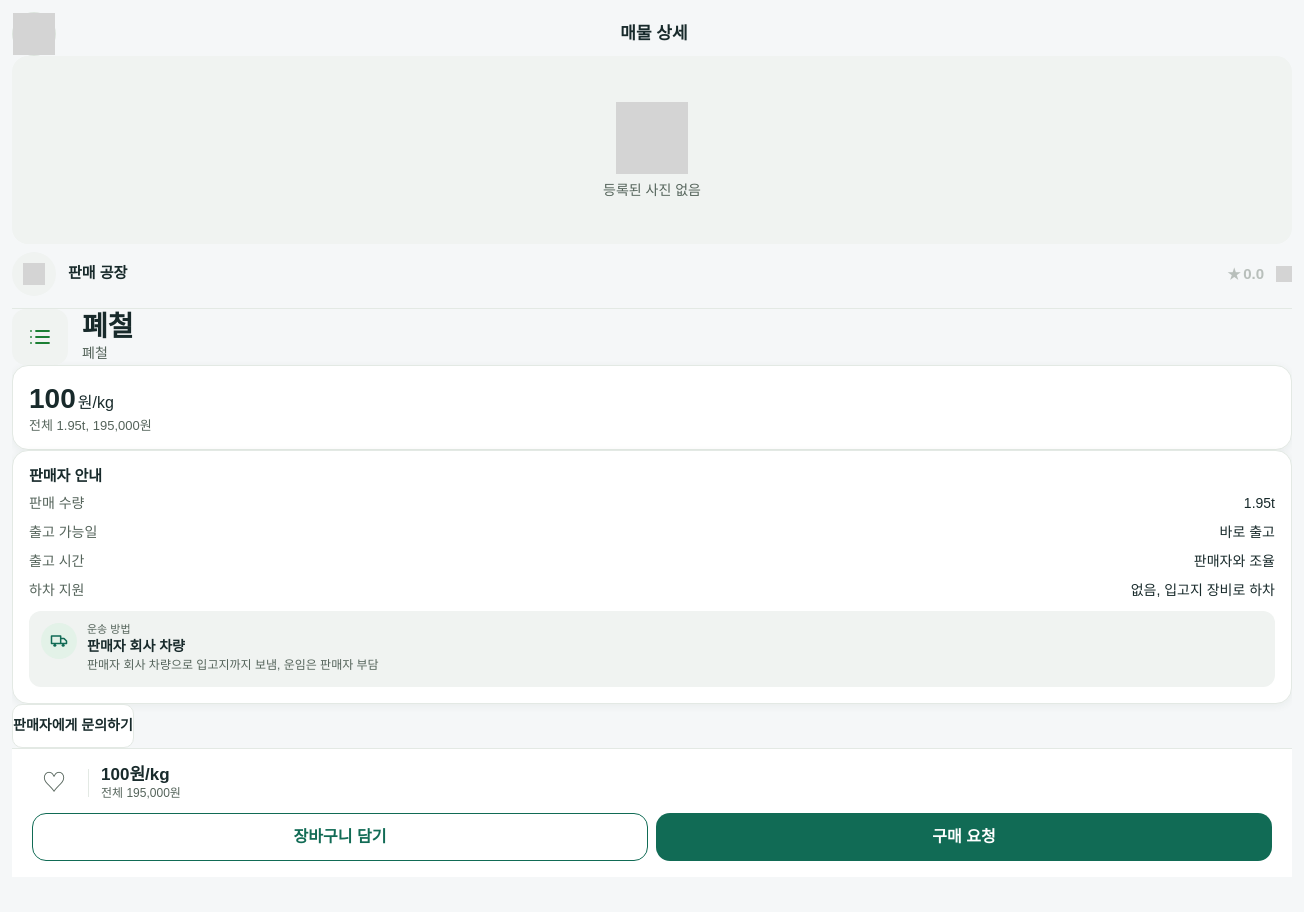
it: QA 15 담김과 탭 수량 배지, 찜 접근성 상태
Later steps or results of the test are not shown.
Expected: the text "전체 1.95t, 195,000원" is shown, [29, 418, 152, 433]
Click the button named "찜하기". click: (54, 783)
box: [32, 761, 76, 805]
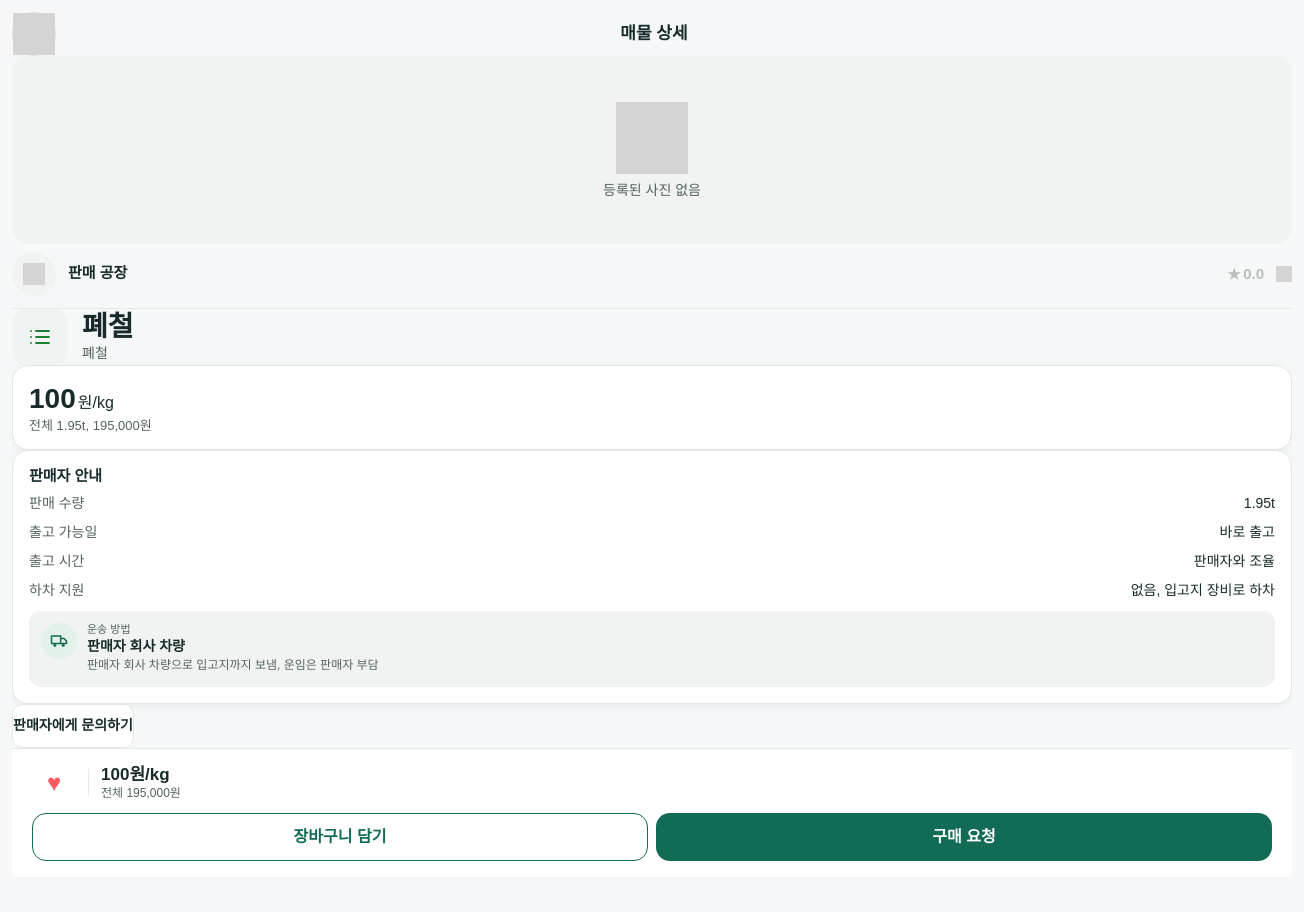
Result: the text "♥" is shown at [47, 771, 61, 795]
